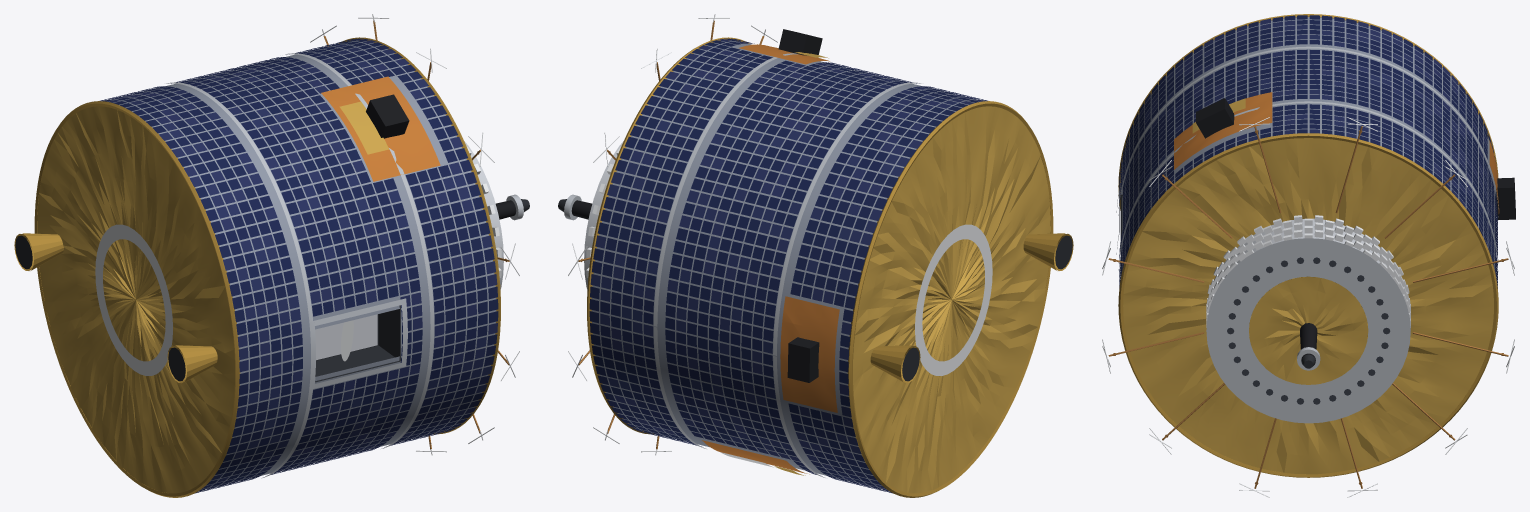
Rendered from meteosat-msg.glb.
3 renders of one model, left to right at view 1: azimuth 30°, elevation 25°; view 2: azimuth 150°, elevation 25°; view 3: azimuth 270°, elevation 25°, orthographic. The views are drawn at different scales.
Parts seen in each view (by area): view 1: solar-panel, foil, body; view 2: solar-panel, foil, body; view 3: foil, body, solar-panel.
Part boxes in pixels (x1,y1,x2,y2): solar-panel: (100,38,498,493); foil: (14,76,440,493); body: (15,14,529,497); solar-panel: (589,38,987,493); foil: (702,44,1073,493); body: (558,14,1072,497); foil: (1123,92,1499,474); body: (1102,14,1515,497); solar-panel: (1119,15,1497,288).
Bounding box in the file's own units: 3.93 × 3.52 × 3.52.
